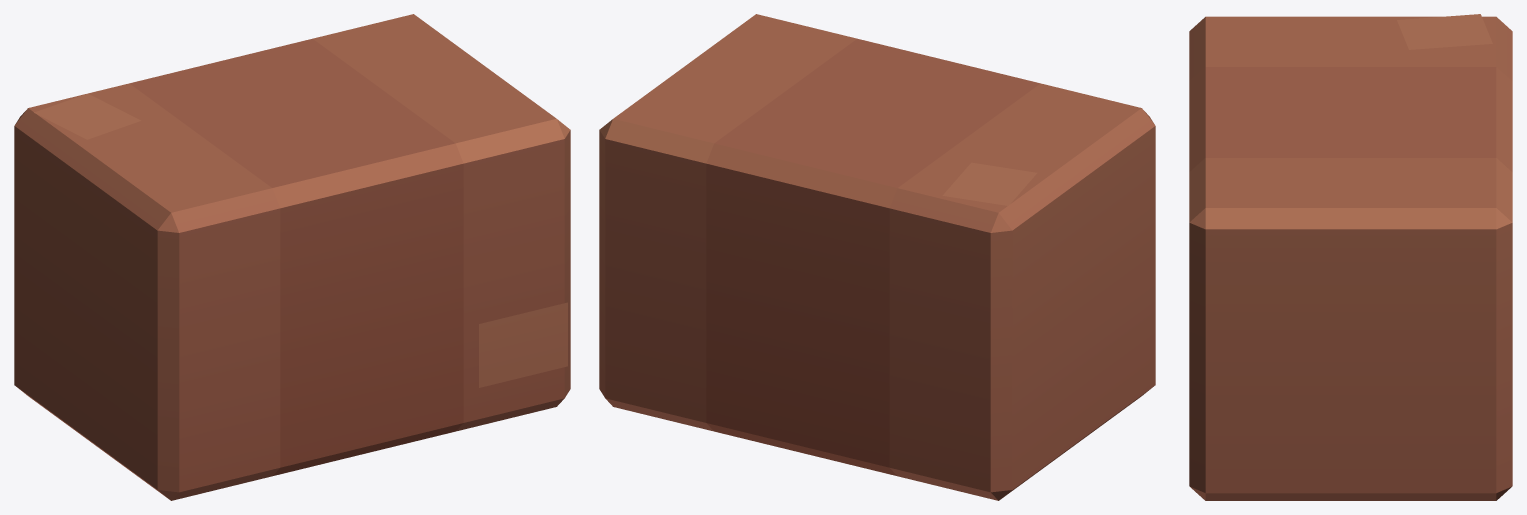
File: kaykit-proto-Box_B.glb
The picture shows the model from 3 angles, left to right: view 1: azimuth 30°, elevation 25°; view 2: azimuth 150°, elevation 25°; view 3: azimuth 270°, elevation 25°; orthographic projection.
Parts seen in each view (by area): view 1: Box_B; view 2: Box_B; view 3: Box_B.
Part boxes in pixels (<box>): Box_B: <box>14,14,570,500</box>; Box_B: <box>599,14,1155,500</box>; Box_B: <box>1189,14,1512,500</box>.
Size of the model in its own units: 0.6 by 0.4022 by 0.4062.
1 material, 1 textured.
